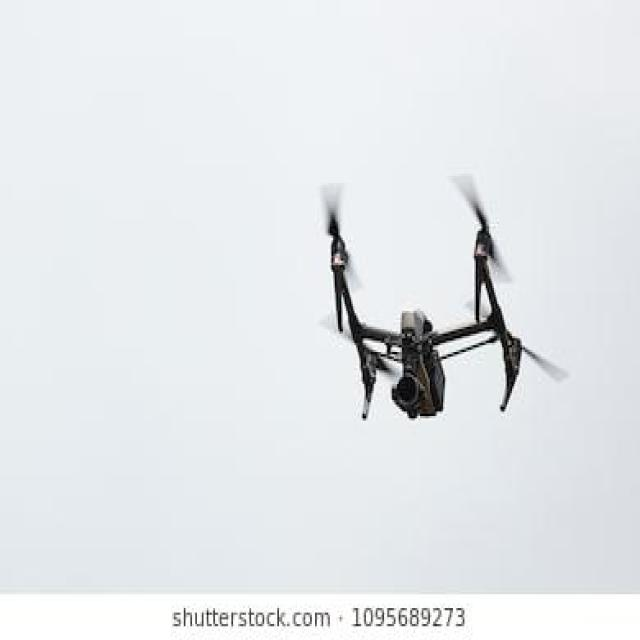drone: (294, 156, 582, 444)
